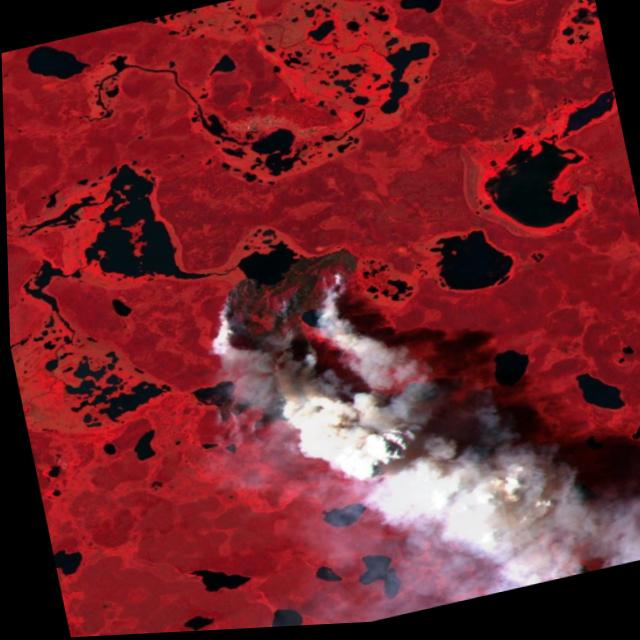fire: (190, 244, 394, 456)
